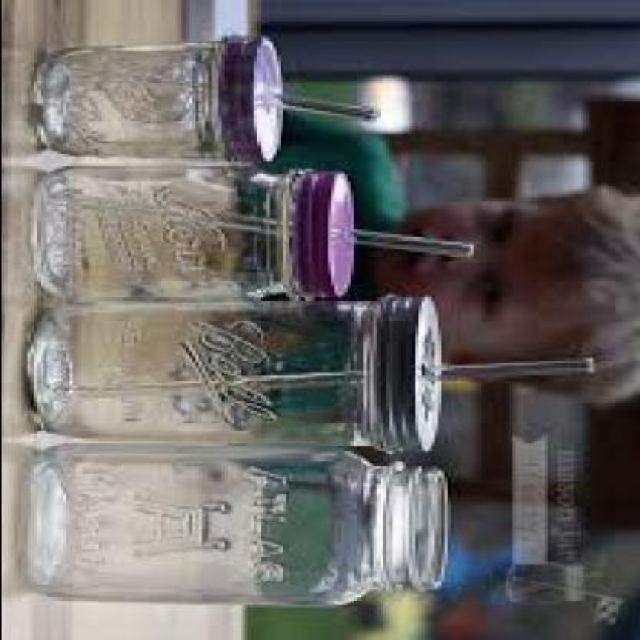GLASS: (19, 444, 456, 602), (22, 298, 386, 444), (33, 164, 307, 290), (36, 36, 230, 156)
METAL: (379, 292, 443, 450), (291, 170, 355, 292), (226, 35, 285, 158)
